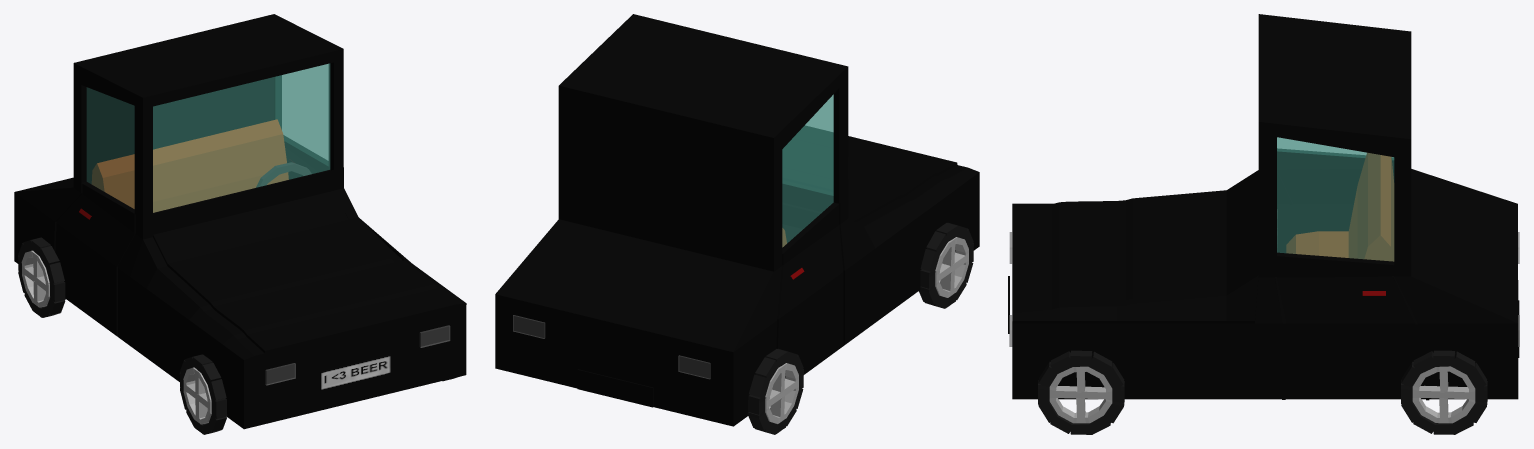
File: CarTest2.fbx
3 views of the same model, side by side, from view 1: azimuth 30°, elevation 25°; view 2: azimuth 150°, elevation 25°; view 3: azimuth 270°, elevation 25° (orthographic). The views are drawn at different scales.
Visible parts, largest first — view 1: Car, Bench, wHEEL.004, wHEEL.002, Plate, wHEEL.001, wHEEL.003, wHEEL, Cube.001, Cube; view 2: Car, wHEEL.004, wHEEL.002, Plate.001, wHEEL.003, wHEEL.001, Cube.002, Cube.003; view 3: Car, Bench, wHEEL.006, wHEEL.008, wHEEL.007, wHEEL.005.
Boxes of the visible parts, box(x1,y1,x2,y2) form: Car: box(14, 14, 466, 429); Bench: box(91, 119, 288, 212); wHEEL.004: box(18, 237, 65, 317); wHEEL.002: box(179, 354, 227, 434); Plate: box(320, 354, 390, 390); wHEEL.001: box(183, 367, 211, 424); wHEEL.003: box(21, 250, 49, 307); wHEEL: box(256, 162, 311, 187); Cube.001: box(419, 325, 450, 347); Cube: box(265, 363, 295, 385); Car: box(495, 14, 979, 426); wHEEL.004: box(748, 348, 803, 434); wHEEL.002: box(919, 222, 973, 308); Plate.001: box(577, 369, 653, 407); wHEEL.003: box(765, 363, 798, 423); wHEEL.001: box(935, 237, 968, 297); Cube.002: box(678, 355, 710, 379); Cube.003: box(513, 315, 545, 338); Car: box(1012, 14, 1518, 400); Bench: box(1286, 152, 1394, 261); wHEEL.006: box(1401, 350, 1487, 434); wHEEL.008: box(1038, 350, 1124, 434); wHEEL.007: box(1049, 366, 1112, 423); wHEEL.005: box(1412, 366, 1475, 423).
Bounding box in the file's own units: 377 × 395 × 609.
